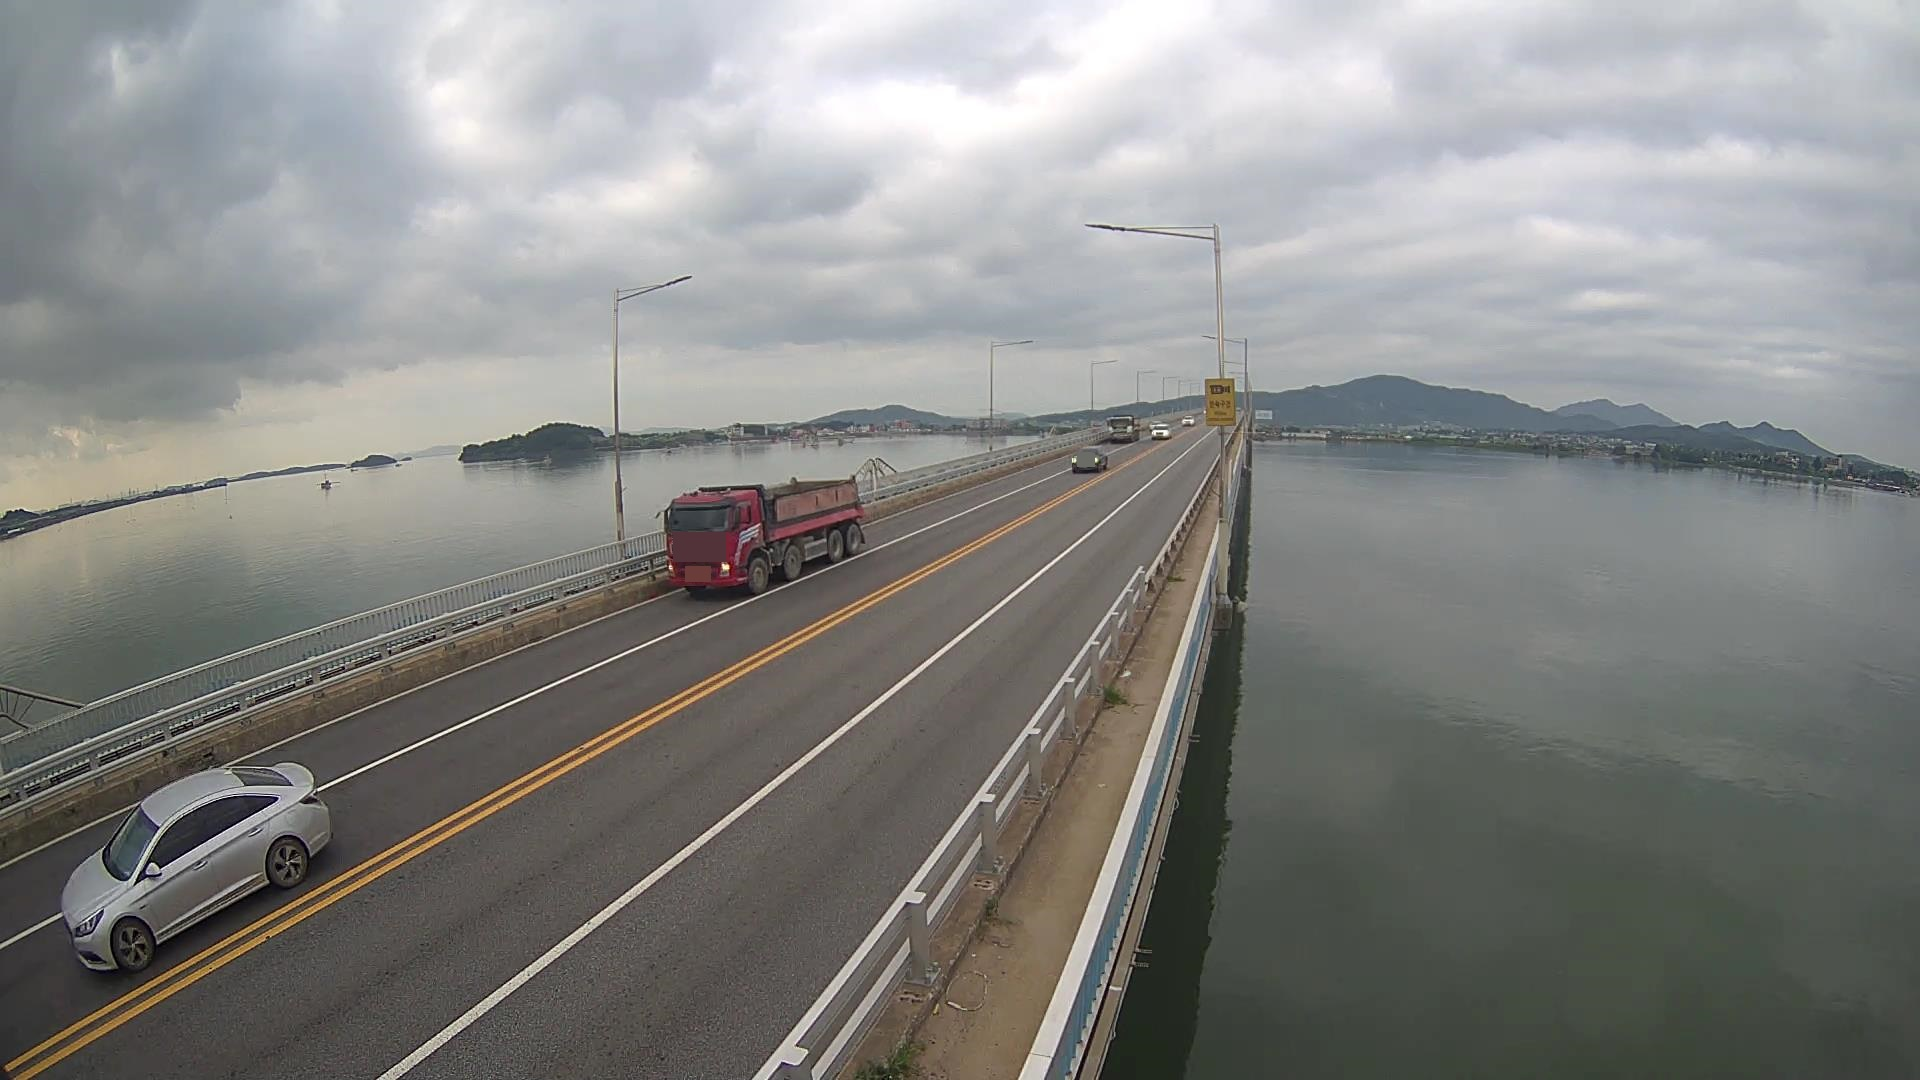정상차량: (654, 475, 865, 595)
